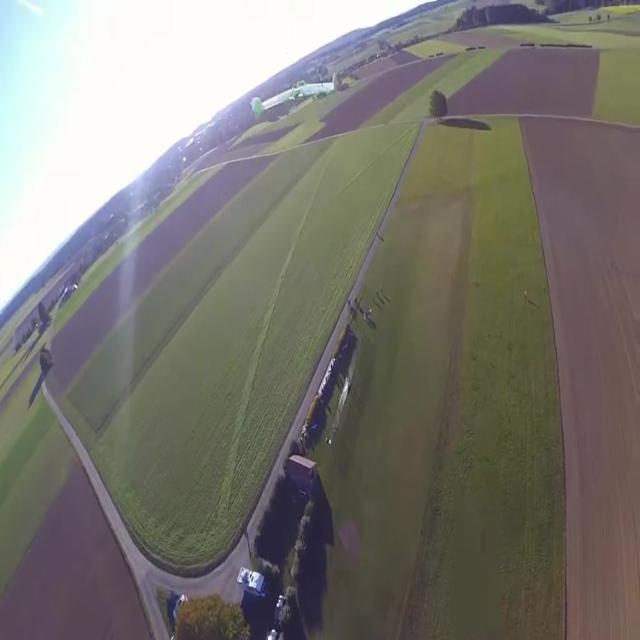iha: (281, 11, 304, 52)
